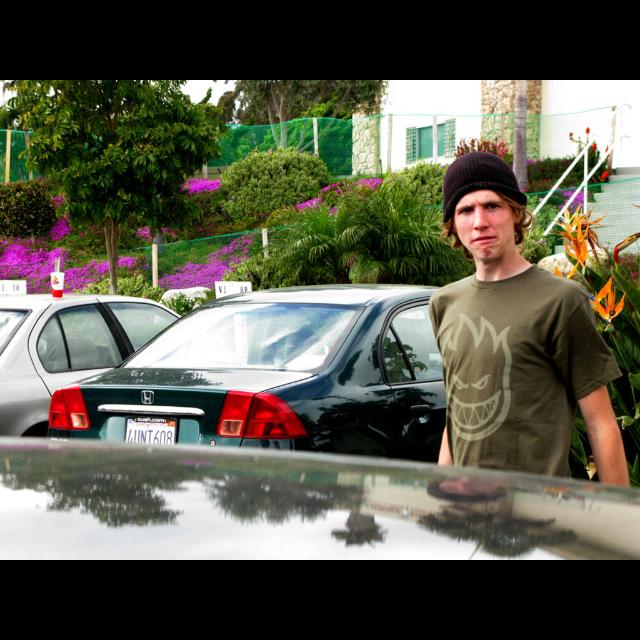Flower: (0, 192, 146, 292), (551, 201, 639, 279), (154, 236, 252, 290), (291, 176, 384, 214), (580, 276, 624, 326), (556, 186, 590, 212), (174, 178, 220, 196), (137, 222, 153, 240), (161, 226, 179, 238), (193, 226, 213, 234), (603, 144, 611, 160), (600, 169, 610, 181), (584, 126, 592, 134), (591, 143, 597, 153), (567, 130, 573, 136)
